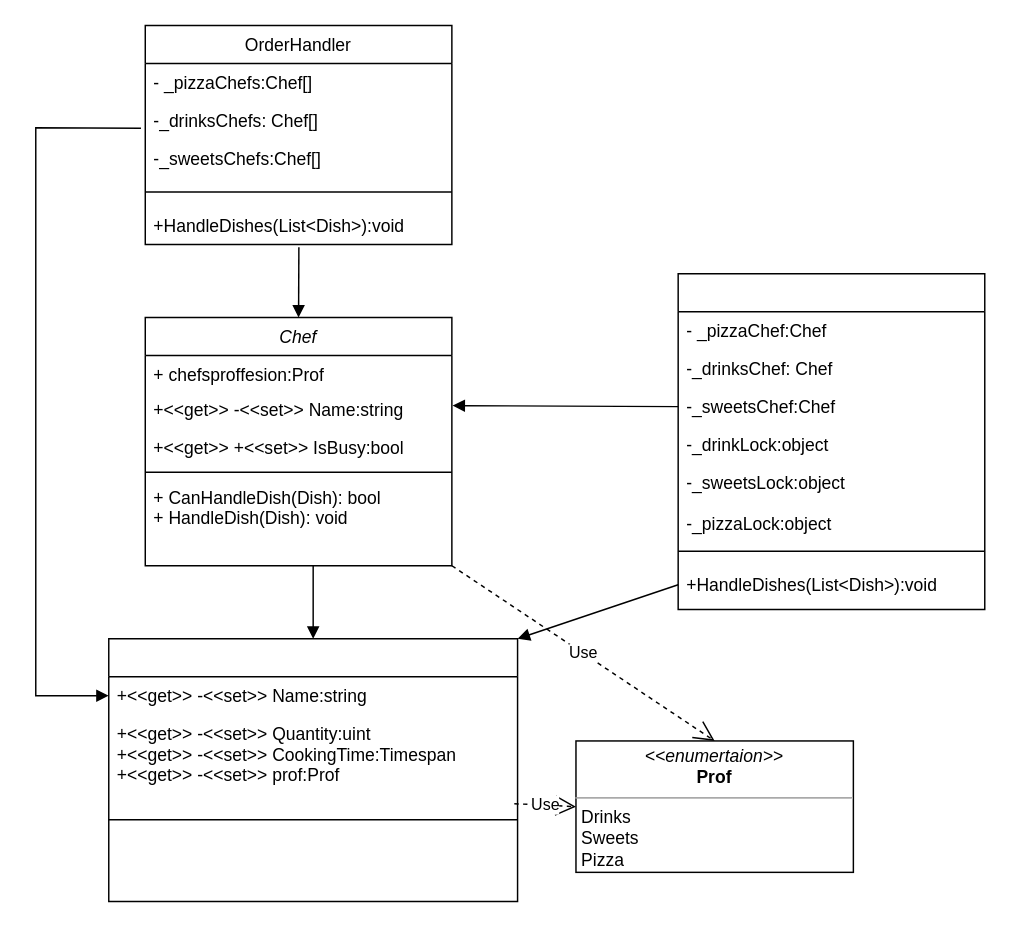
This 1010x927 diagram has some shape labels left out. The box of each missing label's shape, as (x1, y1, x2, y2) in pixels:
Dish: (107, 637, 518, 902)
OrderHandlerThreeChefs: (677, 272, 985, 610)
